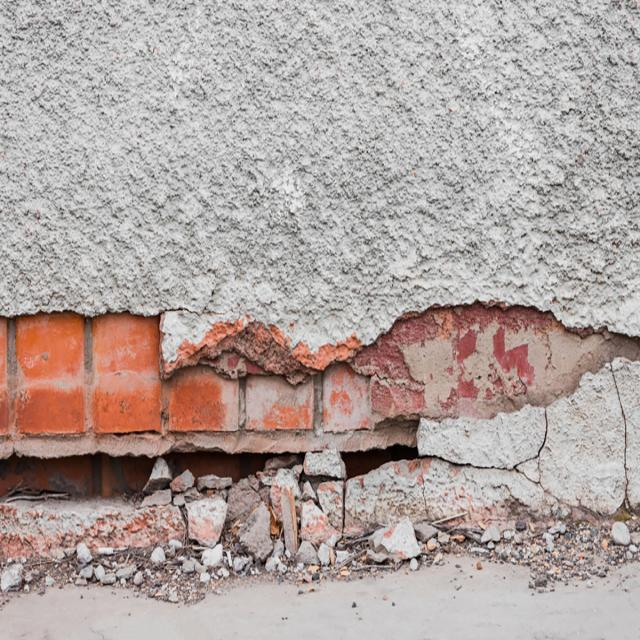Spalling: (0, 301, 639, 605)
